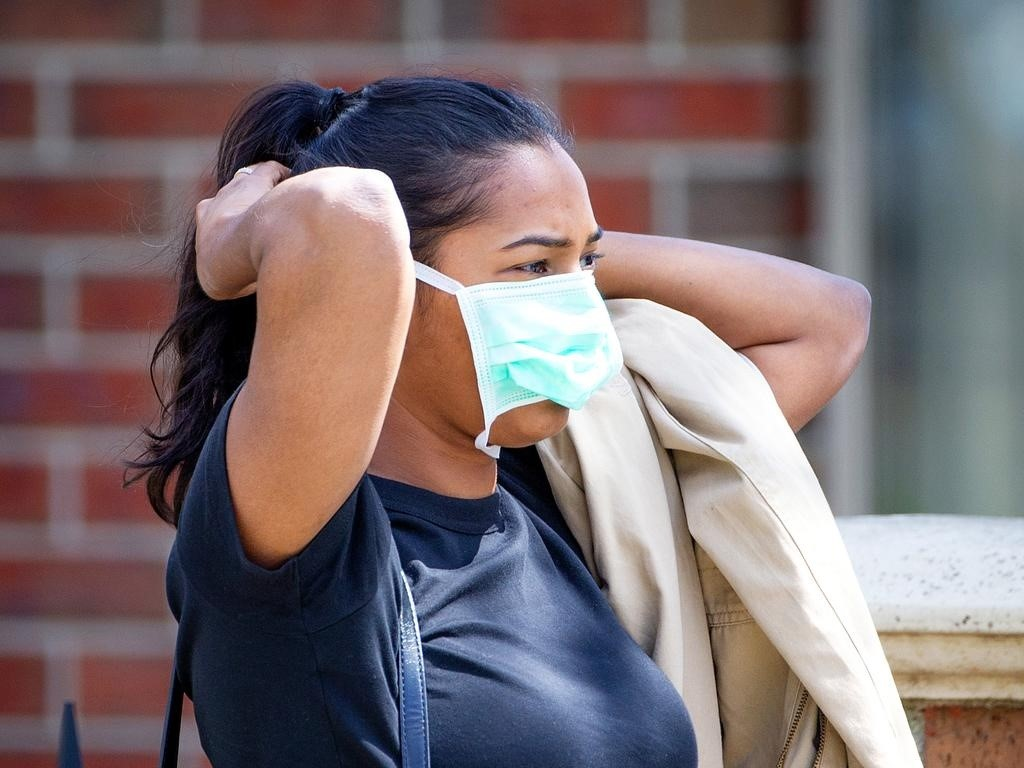face_with_mask: (293, 75, 628, 465)
